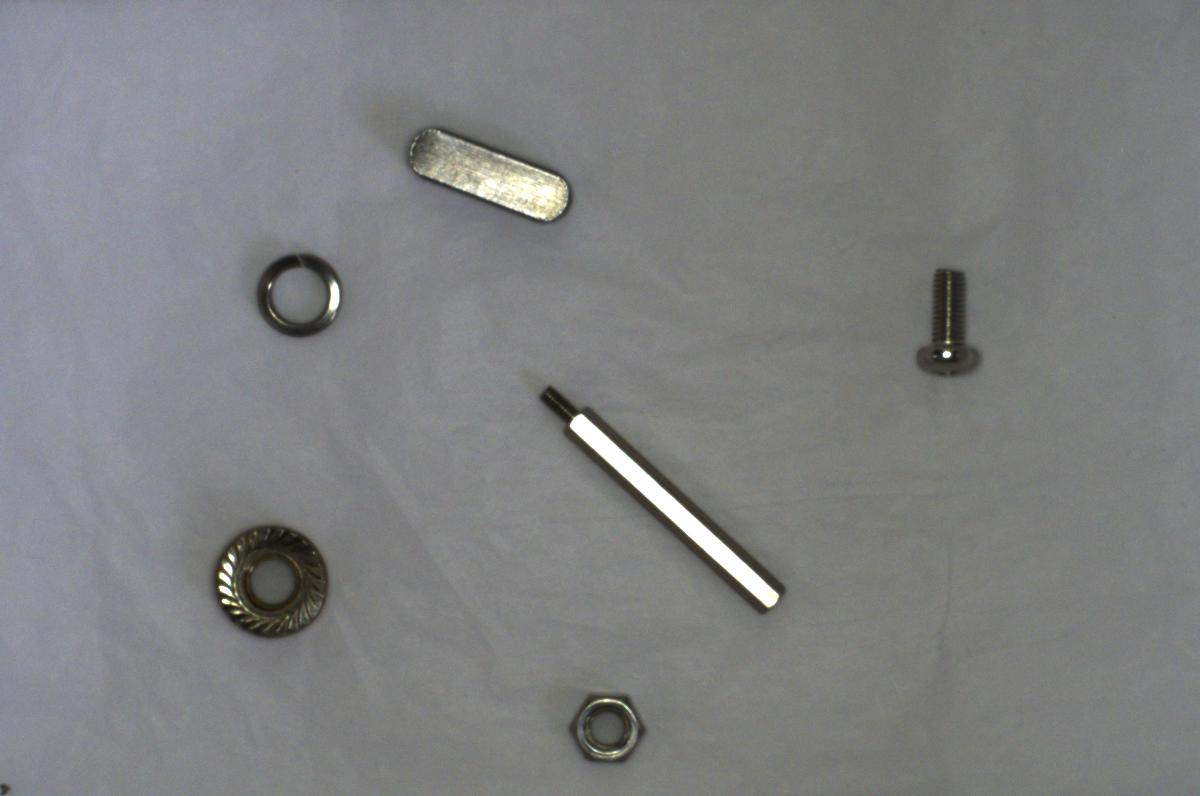Flange nut: (206, 518, 338, 645)
Hexagon nut: (558, 681, 650, 765)
Hexagonal steel column: (535, 380, 799, 628)
Keybar: (392, 118, 572, 236)
Round head screw: (915, 256, 984, 382)
Spring washer: (251, 247, 350, 341)
